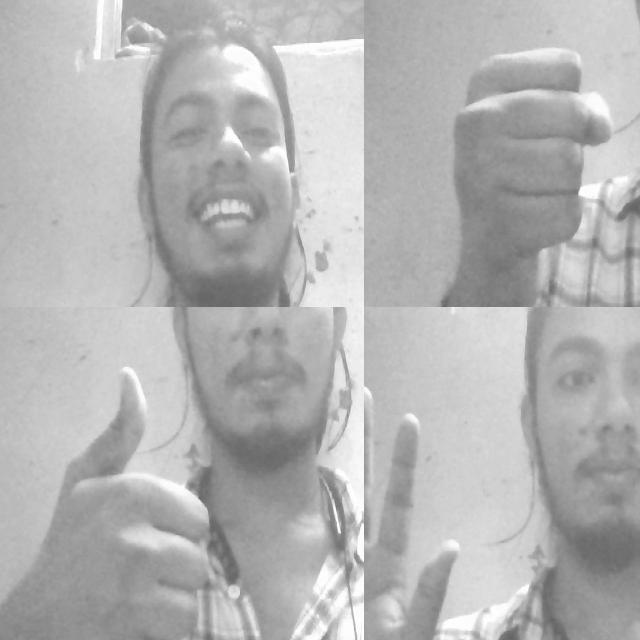Hello: (364, 369, 472, 640)
No: (443, 38, 623, 290)
Yes: (38, 347, 220, 640)
